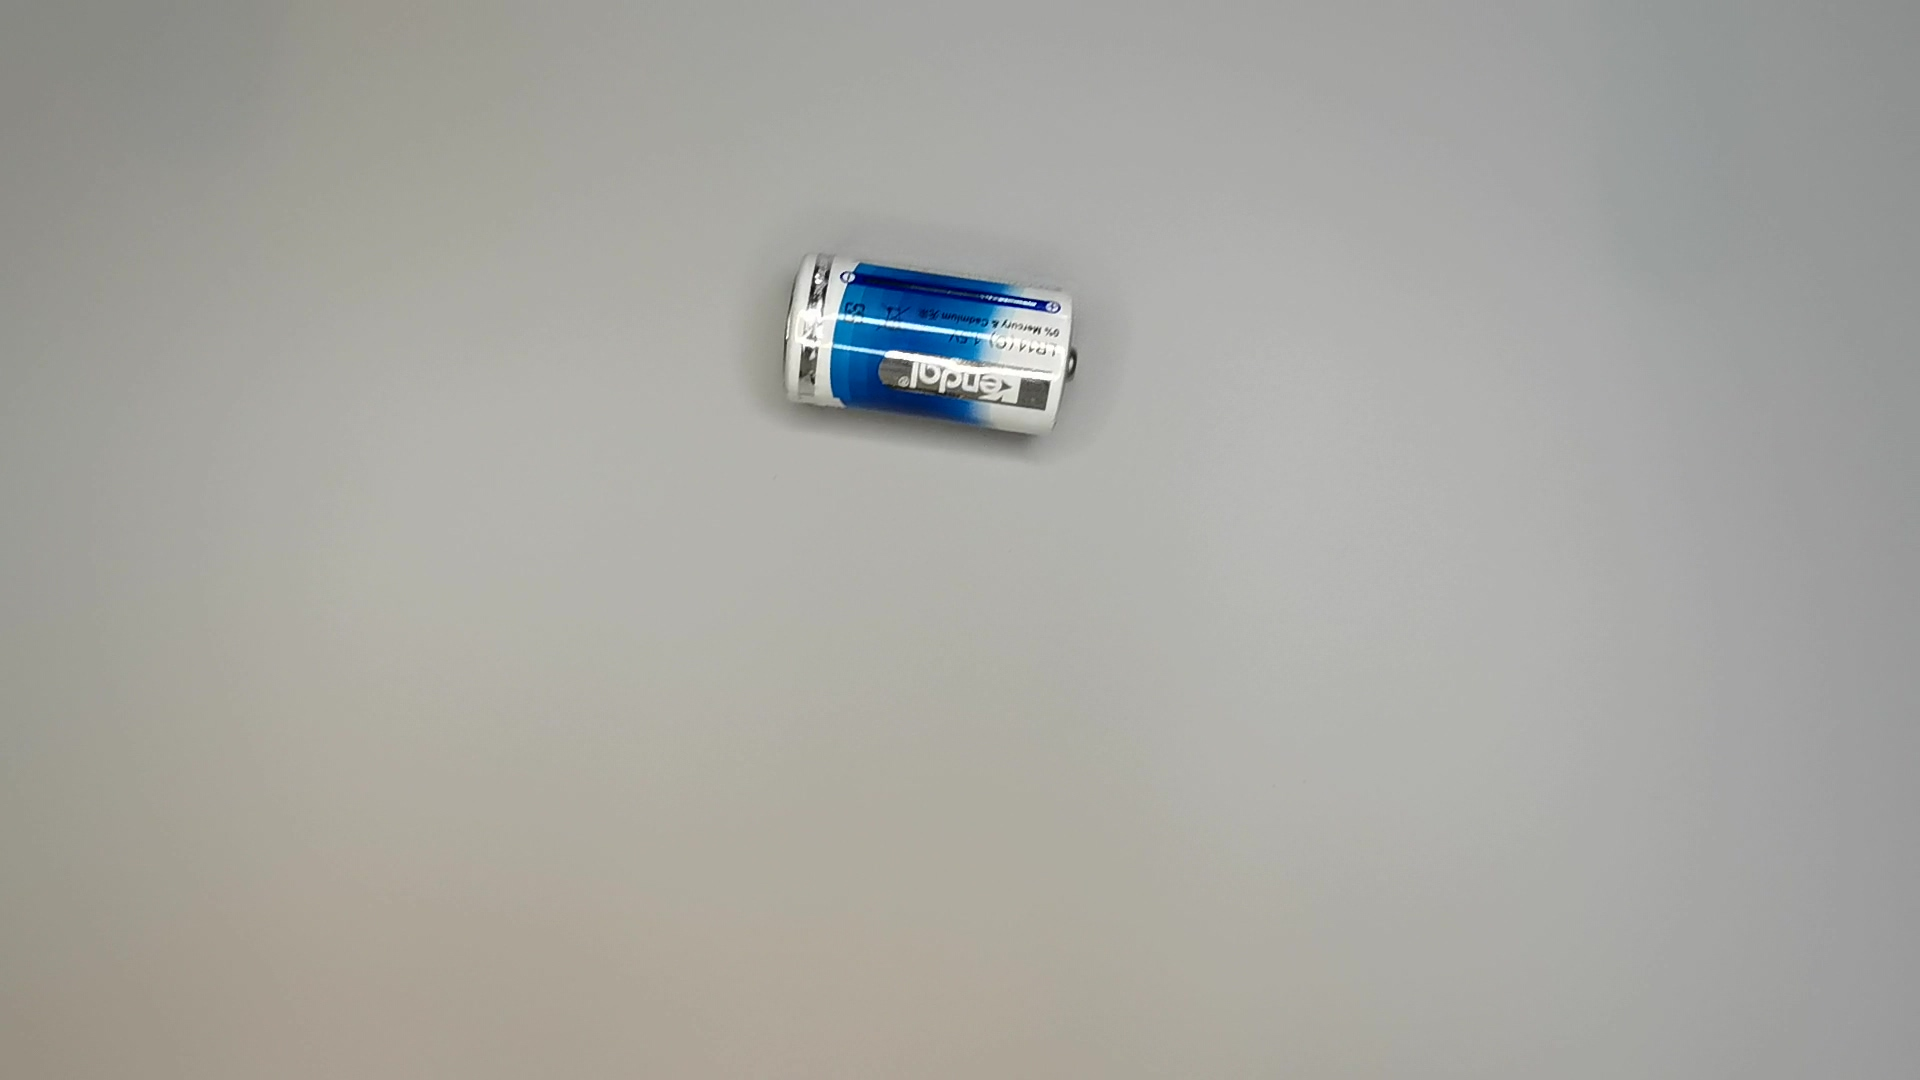battery: (775, 245, 1077, 446)
